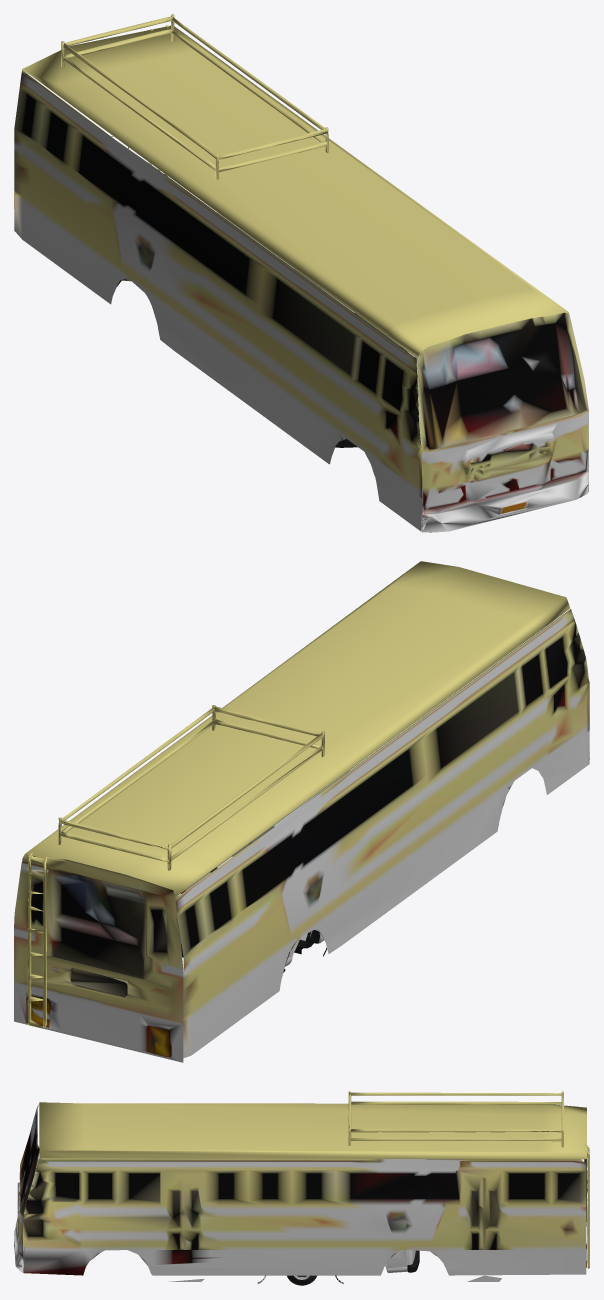
Rendered from fleet.glb.
The picture shows the model from 3 angles, top to bottom: view 1: azimuth 30°, elevation 25°; view 2: azimuth 150°, elevation 25°; view 3: azimuth 270°, elevation 25°; orthographic projection. The views are drawn at different scales.
Visible parts, largest first — view 1: bus; view 2: bus; view 3: bus, cargovan.
Part boxes in pixels (x1,y1,x2,y2): bus: [14, 14, 588, 532]; bus: [14, 561, 589, 1062]; bus: [14, 1091, 589, 1281]; cargovan: [385, 1250, 419, 1272].
Size of the model in its own units: 2.64 by 3.74 by 11.2.
